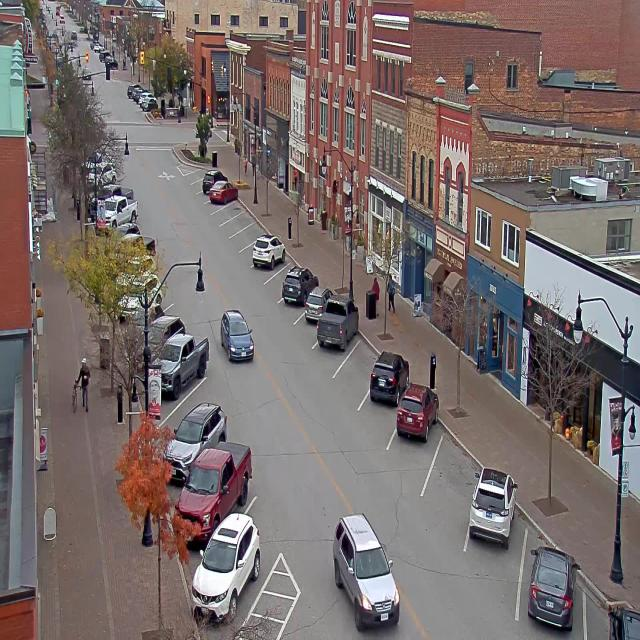available: (429, 430, 482, 510), (174, 364, 225, 413), (341, 332, 378, 393), (262, 263, 283, 299), (230, 225, 251, 254), (236, 243, 254, 270), (220, 216, 242, 238), (212, 205, 232, 224), (187, 168, 203, 182), (189, 179, 201, 196)
occupied: (191, 511, 261, 624), (179, 433, 256, 518), (163, 401, 228, 484), (527, 544, 579, 631), (468, 466, 517, 547), (152, 331, 210, 398), (586, 588, 638, 639), (395, 385, 433, 447), (316, 296, 358, 352), (368, 350, 409, 406), (302, 280, 332, 331), (282, 265, 318, 304), (252, 232, 285, 269), (209, 179, 238, 204), (200, 172, 216, 192)
